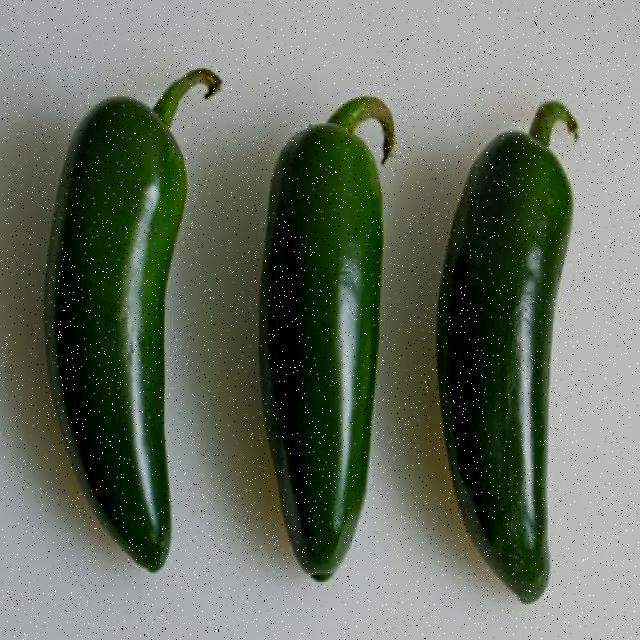Chili Pepper: (17, 97, 205, 589), (407, 84, 574, 604), (239, 97, 400, 586)
